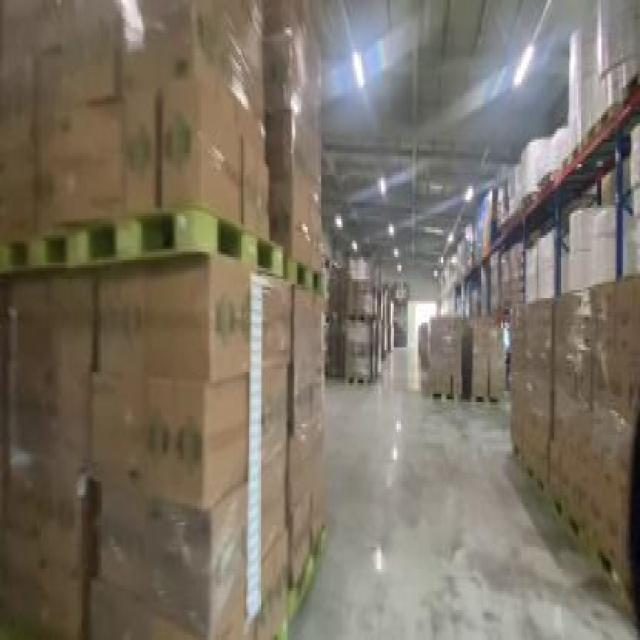box: (0, 3, 326, 632), (503, 274, 639, 607), (311, 249, 394, 380), (416, 317, 504, 408), (389, 268, 411, 353)
white_roll: (563, 200, 623, 292), (503, 118, 571, 188), (588, 3, 637, 98), (566, 16, 600, 150), (515, 216, 557, 301)
